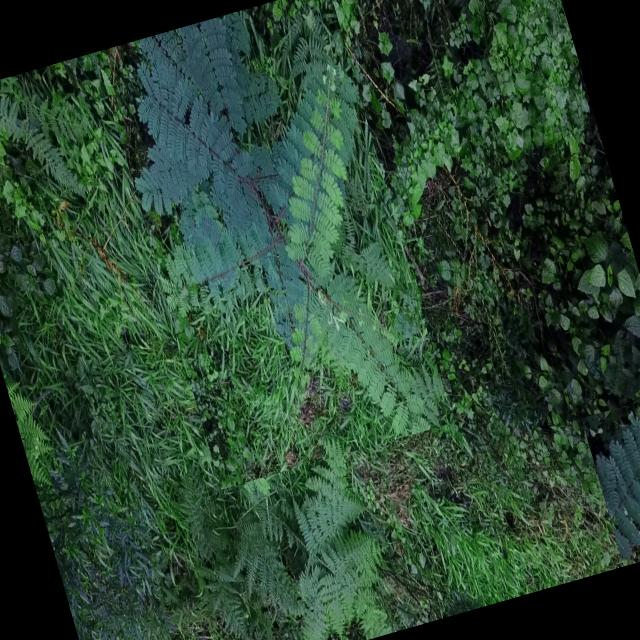Mysore-Thorn-Weed: (96, 0, 454, 488), (581, 391, 640, 565)
